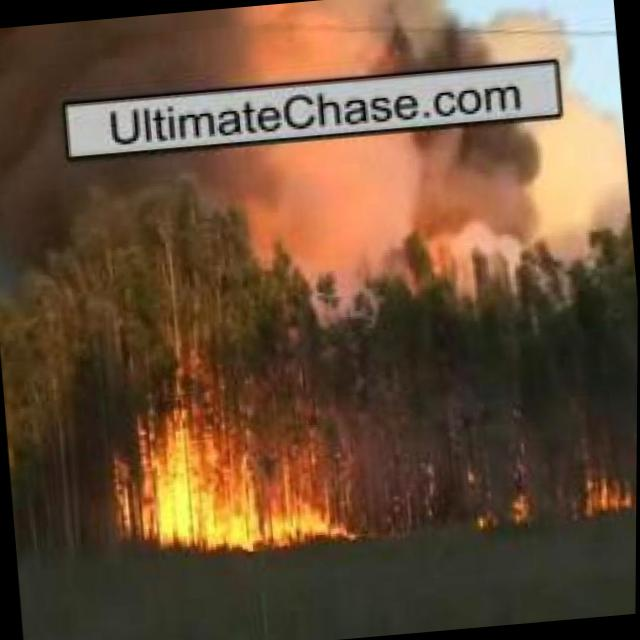Fire: (136, 414, 357, 556), (470, 492, 542, 532), (576, 466, 631, 516)
